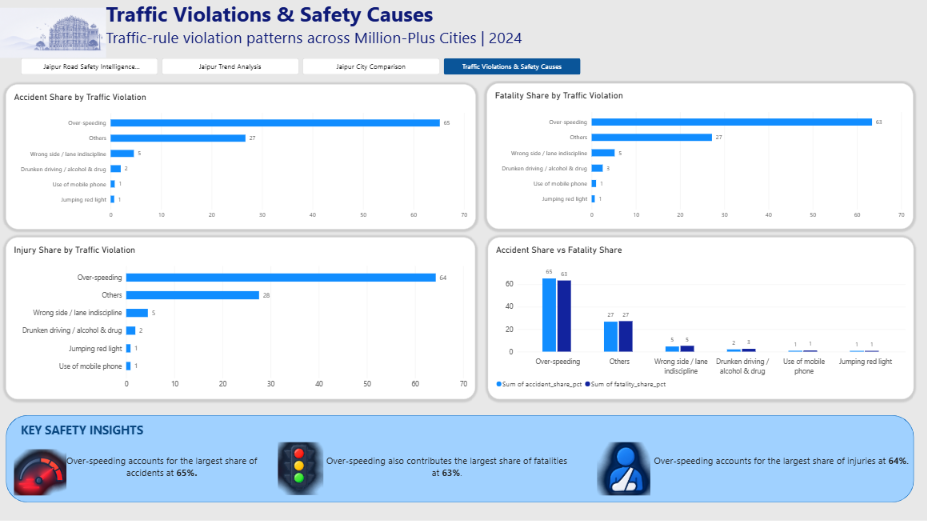

The page's visual inventory and layout, read from the dashboard file:
{"tool":"powerbi","page":{"name":"Traffic Violations & Safety Causes","canvas":[1920,1080],"ordinal":3},"visuals":[{"type":"clusteredBarChart","title":"Accident Share by Traffic Violation","fields":{"Category":["million_plus_traffic_violations_2024.violation"],"Y":["Sum(million_plus_traffic_violations_2024.accident_share_pct)"]},"box":[18.5,175,967.4,298.5],"z":0},{"type":"clusteredBarChart","title":"Fatality Share by Traffic Violation","fields":{"Category":["million_plus_traffic_violations_2024.violation"],"Y":["Sum(million_plus_traffic_violations_2024.fatality_share_pct)"]},"box":[1009.1,172.7,877.3,300],"z":1000},{"type":"clusteredBarChart","title":"Injury Share by Traffic Violation","fields":{"Category":["million_plus_traffic_violations_2024.violation"],"Y":["Sum(million_plus_traffic_violations_2024.injury_share_pct)"]},"box":[17.9,489.7,966.7,333.3],"z":2000},{"type":"clusteredColumnChart","title":"Accident Share vs Fatality Share","fields":{"Category":["million_plus_traffic_violations_2024.violation"],"Y":["Sum(million_plus_traffic_violations_2024.accident_share_pct)","Sum(million_plus_traffic_violations_2024.fatality_share_pct)"]},"box":[1010.3,489.7,876.9,333.3],"z":3000},{"type":"textbox","box":[224.5,0,1098,138.8],"z":5000},{"type":"pageNavigator","box":[49,122.4,1153.1,34.7],"z":6000},{"type":"image","box":[0,0,224.5,138.8],"z":6001},{"type":"shape","box":[17.9,856.4,1869.2,179.5],"z":6002},{"type":"image","box":[18.5,926.2,140.9,95.5],"z":6003},{"type":"textbox","box":[140,936.5,399.3,84.4],"z":6004},{"type":"image","box":[557.8,911.8,135.7,108.9],"z":6005},{"type":"textbox","box":[669,936.5,514.6,55.6],"z":6006},{"type":"image","box":[1183.5,911.8,213.5,109.6],"z":6007},{"type":"textbox","box":[1322,0,564,150],"z":6008},{"type":"textbox","box":[1342,936.5,545.5,43.2],"z":6009},{"type":"textbox","box":[49.4,870.7,452.8,41.2],"z":6010}]}

Visuals, with their boxes in screenshot pixels (x1, y1, x2, y2), scaled from the page's 1920x1080 canvas onto the 927x521 screenshot:
"Accident Share by Traffic Violation" clusteredBarChart: 9/84/476/228
"Fatality Share by Traffic Violation" clusteredBarChart: 487/83/911/228
"Injury Share by Traffic Violation" clusteredBarChart: 9/236/475/397
"Accident Share vs Fatality Share" clusteredColumnChart: 488/236/911/397
textbox: 108/0/639/67
pageNavigator: 24/59/580/76
image: 0/0/108/67
shape: 9/413/911/500
image: 9/447/77/493
textbox: 68/452/260/492
image: 269/440/335/492
textbox: 323/452/571/479
image: 571/440/674/493
textbox: 638/0/911/72
textbox: 648/452/911/473
textbox: 24/420/242/440
